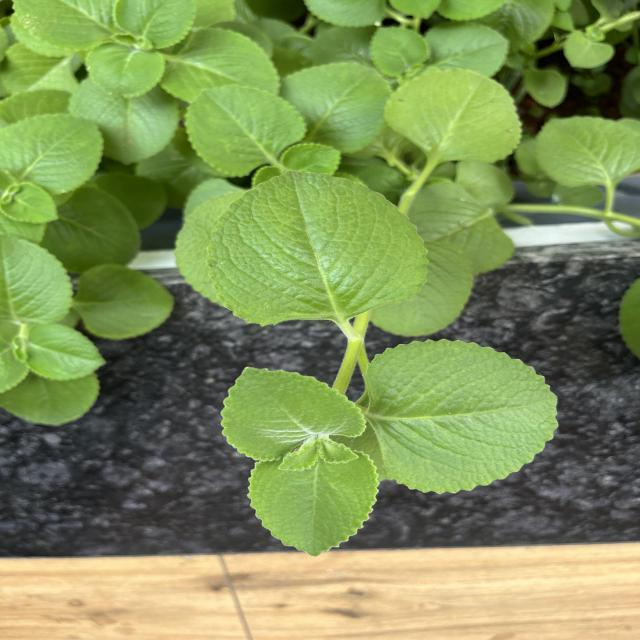Plectranthus barbatus: (203, 170, 430, 330), (362, 335, 560, 496), (246, 448, 380, 559), (220, 366, 368, 462), (381, 66, 523, 166), (182, 83, 307, 179), (68, 76, 178, 169), (280, 61, 388, 154), (0, 113, 103, 195), (71, 263, 177, 342), (537, 114, 640, 190), (86, 44, 164, 100)
